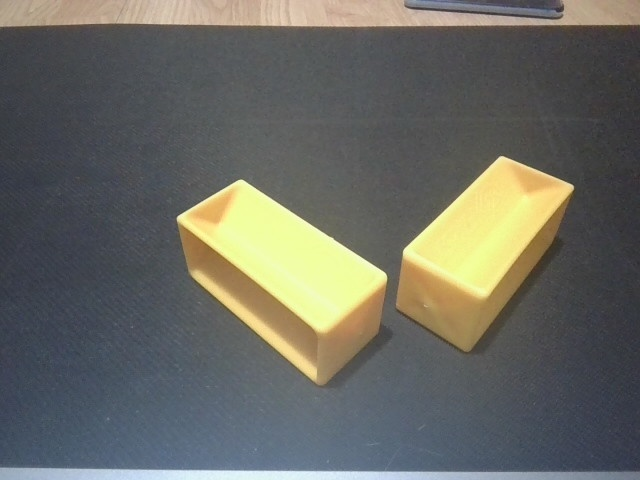YellowSample: (172, 174, 393, 392), (392, 153, 578, 362)
